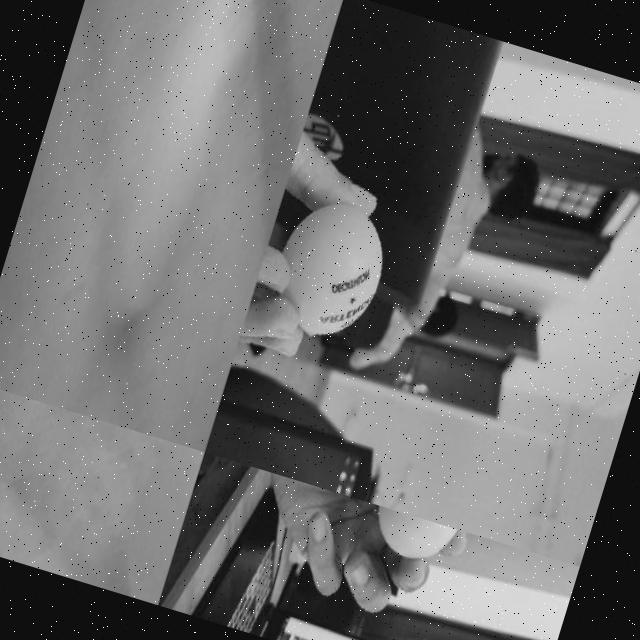ping-pong-ball: (80, 0, 279, 339), (260, 197, 396, 351), (366, 506, 458, 568)
